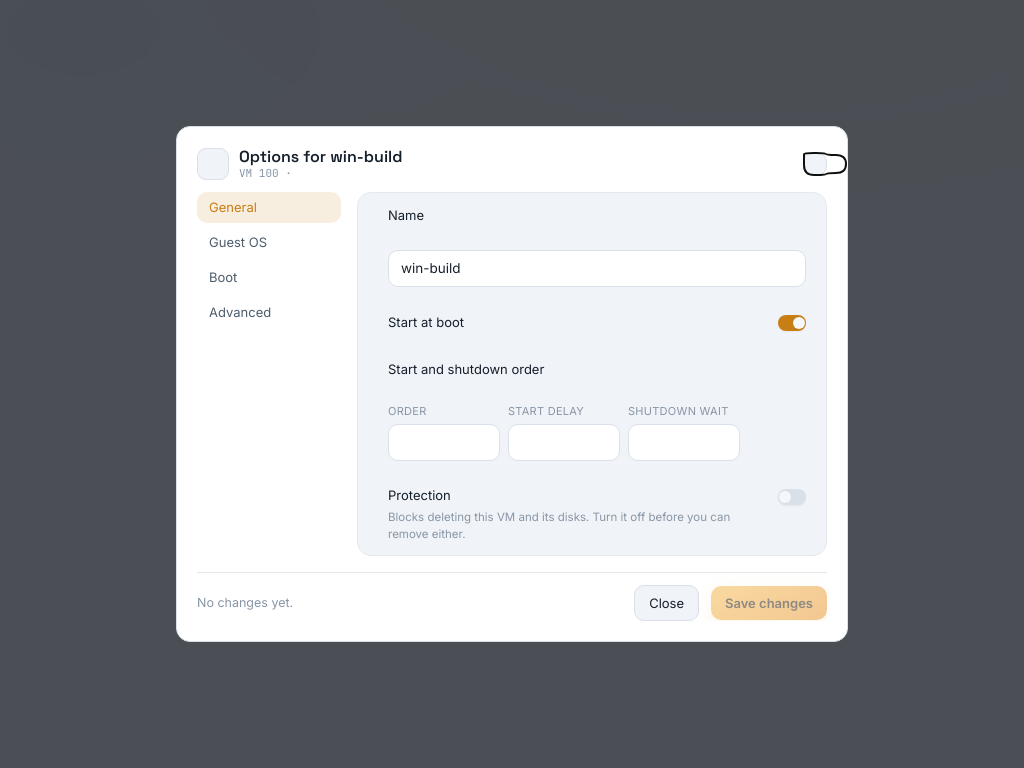
Test: VmOptionsDialog › shows what Proxmox is already holding for the next boot
The image size is (1024, 768).
Expected: the field labelled "Name" is shown, [388,250,806,287]
What coordinates should you click on to do the following:
click the button "Advanced"
I would click on:
 (269, 312)
Its box is [197,297,341,328].
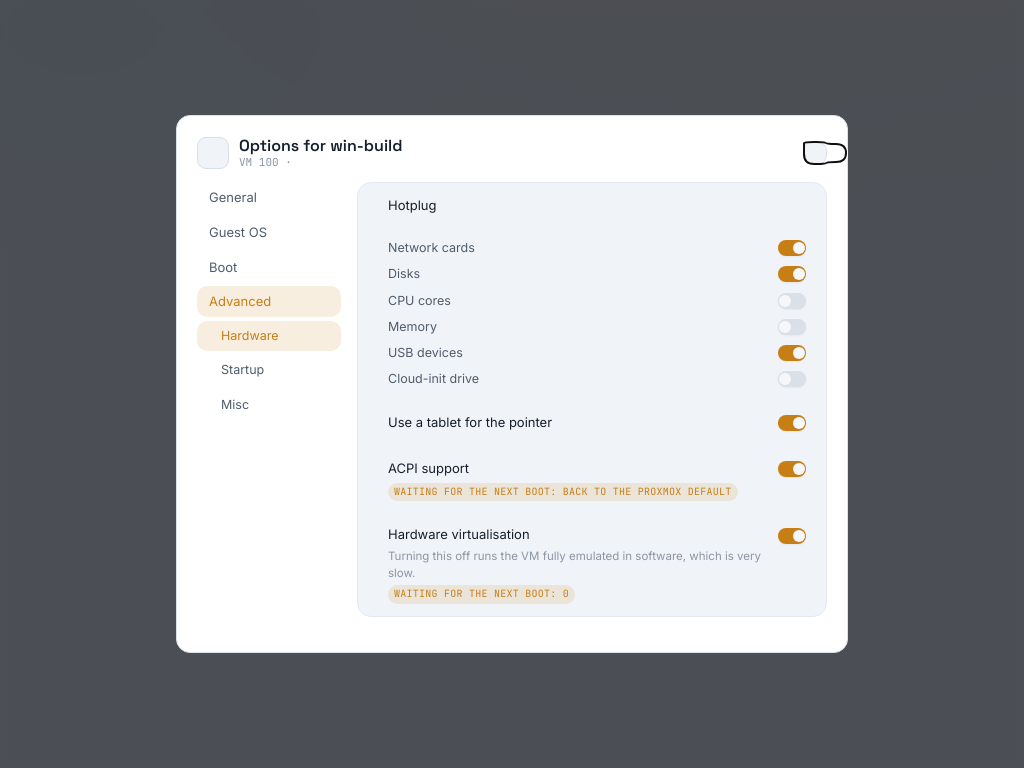
Now the element showing "Waiting for the next boot: 0" is shown, box [388,585,575,604]
Now the element showing "Waiting for the next boot: back to the Proxmox default" is shown, box [388,483,738,501]
